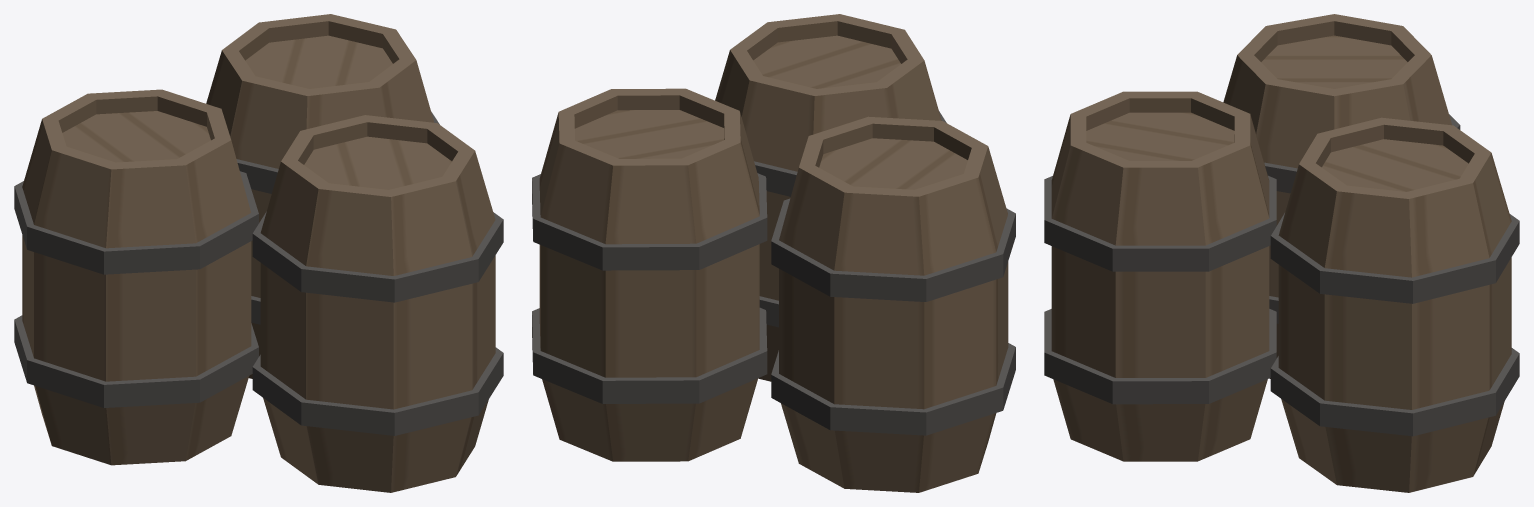
The model's file is SD_Prop_Barrel_02.fbx.
3 renders of one model, left to right at view 1: azimuth 30°, elevation 25°; view 2: azimuth 150°, elevation 25°; view 3: azimuth 270°, elevation 25°, orthographic.
Parts seen in each view (by area): view 1: SD_Prop_Barrel_02; view 2: SD_Prop_Barrel_02; view 3: SD_Prop_Barrel_02.
Boxes of the visible parts, x1,y1,x2,y2 form: SD_Prop_Barrel_02: (14,14,503,492); SD_Prop_Barrel_02: (532,14,1015,492); SD_Prop_Barrel_02: (1044,14,1519,492).
Bounding box in the file's own units: 2.66 × 1.74 × 2.55.
